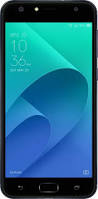asus: (1, 1, 97, 199)
